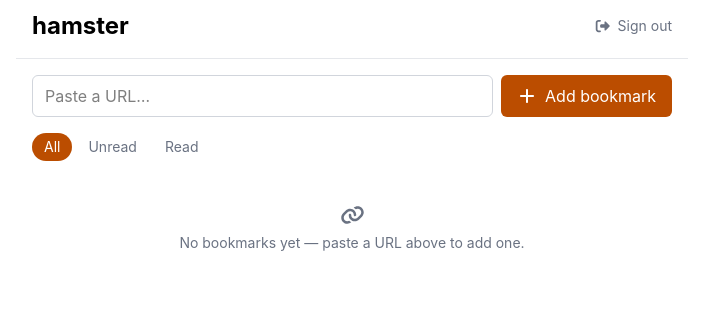
Scenario: BookmarksPage › still shows the empty-state message alongside the error when adding fails on an already-verified-empty list
expect the text "No bookmarks yet — paste a URL above to add one." is shown: met, box [179,233,525,253]
In the field labelled "URL": (262, 96) [32,75,493,117], type "https://example.com"
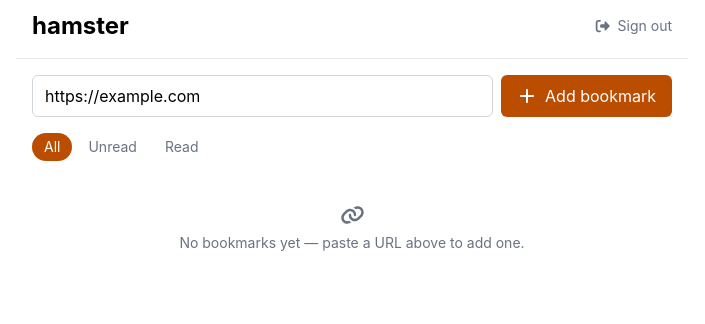
Click the button "Add bookmark": (586, 96) [501,75,672,117]
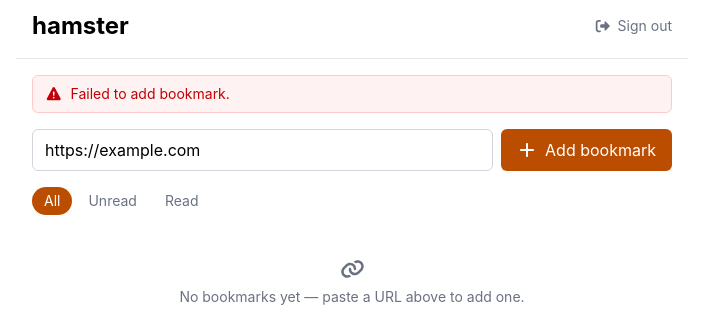
expect the text "No bookmarks yet — paste a URL above to add one." is shown: met, box [179,287,525,307]
expect the text "Failed to add bookmark." is shown: met, box [32,75,672,113]
